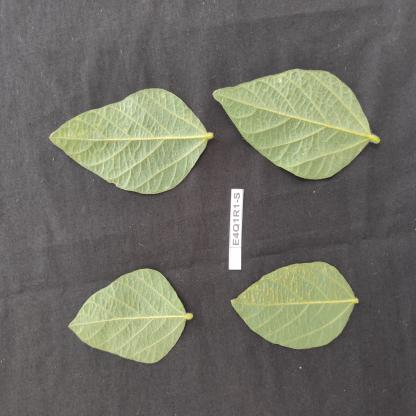label: (222, 186, 252, 270)
leaflets: (212, 58, 387, 187), (47, 81, 217, 196), (68, 258, 192, 370), (228, 261, 360, 355)
